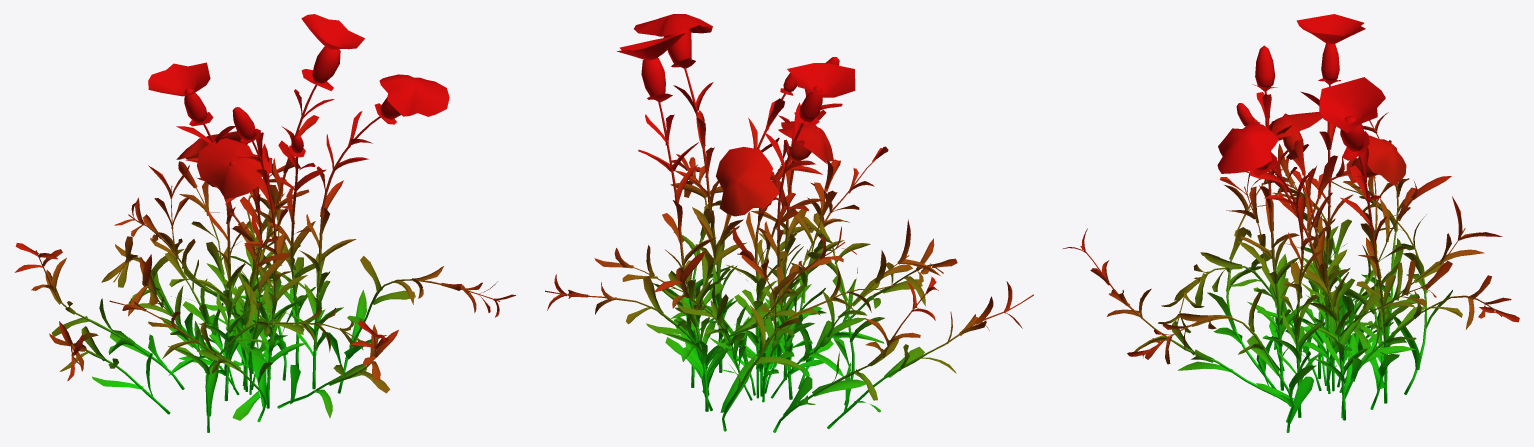
Rendered from Var1_LOD0.fbx.
3 views of the same model, side by side, from view 1: azimuth 30°, elevation 25°; view 2: azimuth 150°, elevation 25°; view 3: azimuth 270°, elevation 25° (orthographic). The views are drawn at different scales.
Parts seen in each view (by area): view 1: _r2i6_Var1_LOD0; view 2: _r2i6_Var1_LOD0; view 3: _r2i6_Var1_LOD0.
Part boxes in pixels (x1,y1,x2,y2): _r2i6_Var1_LOD0: (14,14,515,432); _r2i6_Var1_LOD0: (545,14,1033,432); _r2i6_Var1_LOD0: (1063,14,1519,432).
Bounding box in the file's own units: 31.81 × 26.99 × 31.1.
